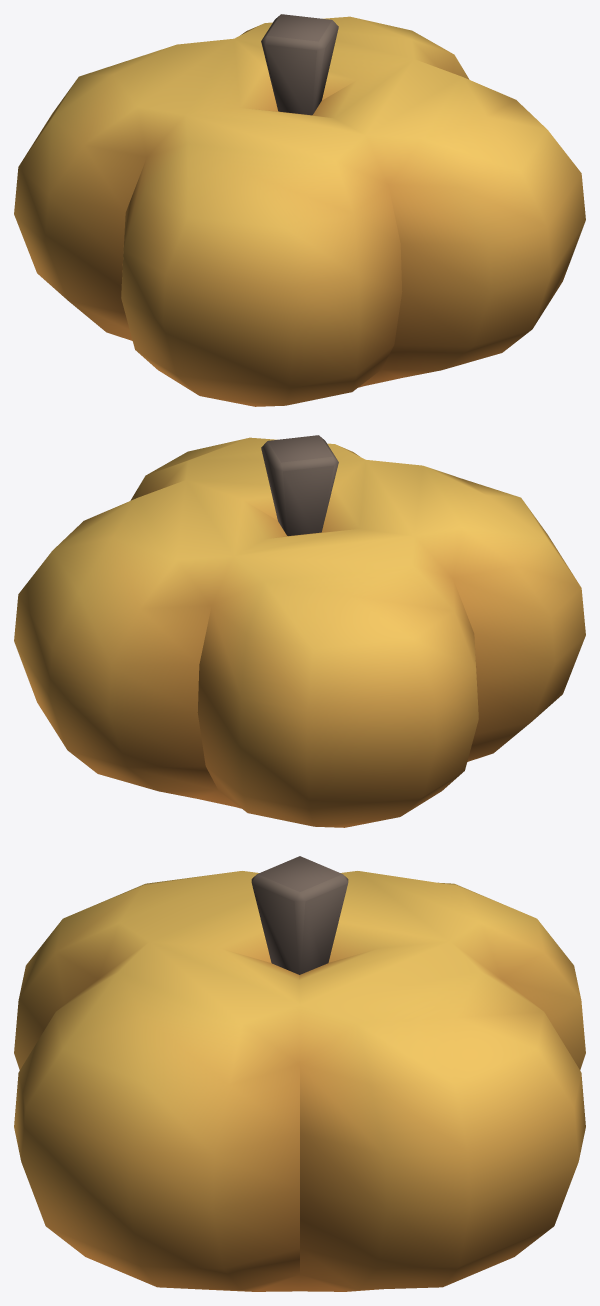
The model's file is pumpkin_yellow.obj.
3 renders of one model, top to bottom at view 1: azimuth 30°, elevation 25°; view 2: azimuth 150°, elevation 25°; view 3: azimuth 270°, elevation 25°, orthographic. The views are drawn at different scales.
Visible parts, largest first — view 1: pumpkin_yellow_Cube.082; view 2: pumpkin_yellow_Cube.082; view 3: pumpkin_yellow_Cube.082.
Boxes of the visible parts, x1,y1,x2,y2 form: pumpkin_yellow_Cube.082: (14, 14, 585, 406); pumpkin_yellow_Cube.082: (14, 435, 585, 827); pumpkin_yellow_Cube.082: (14, 856, 585, 1291).
Size of the model in its own units: 1 by 0.7 by 1.
Materials: 1 (1 with a texture image).
